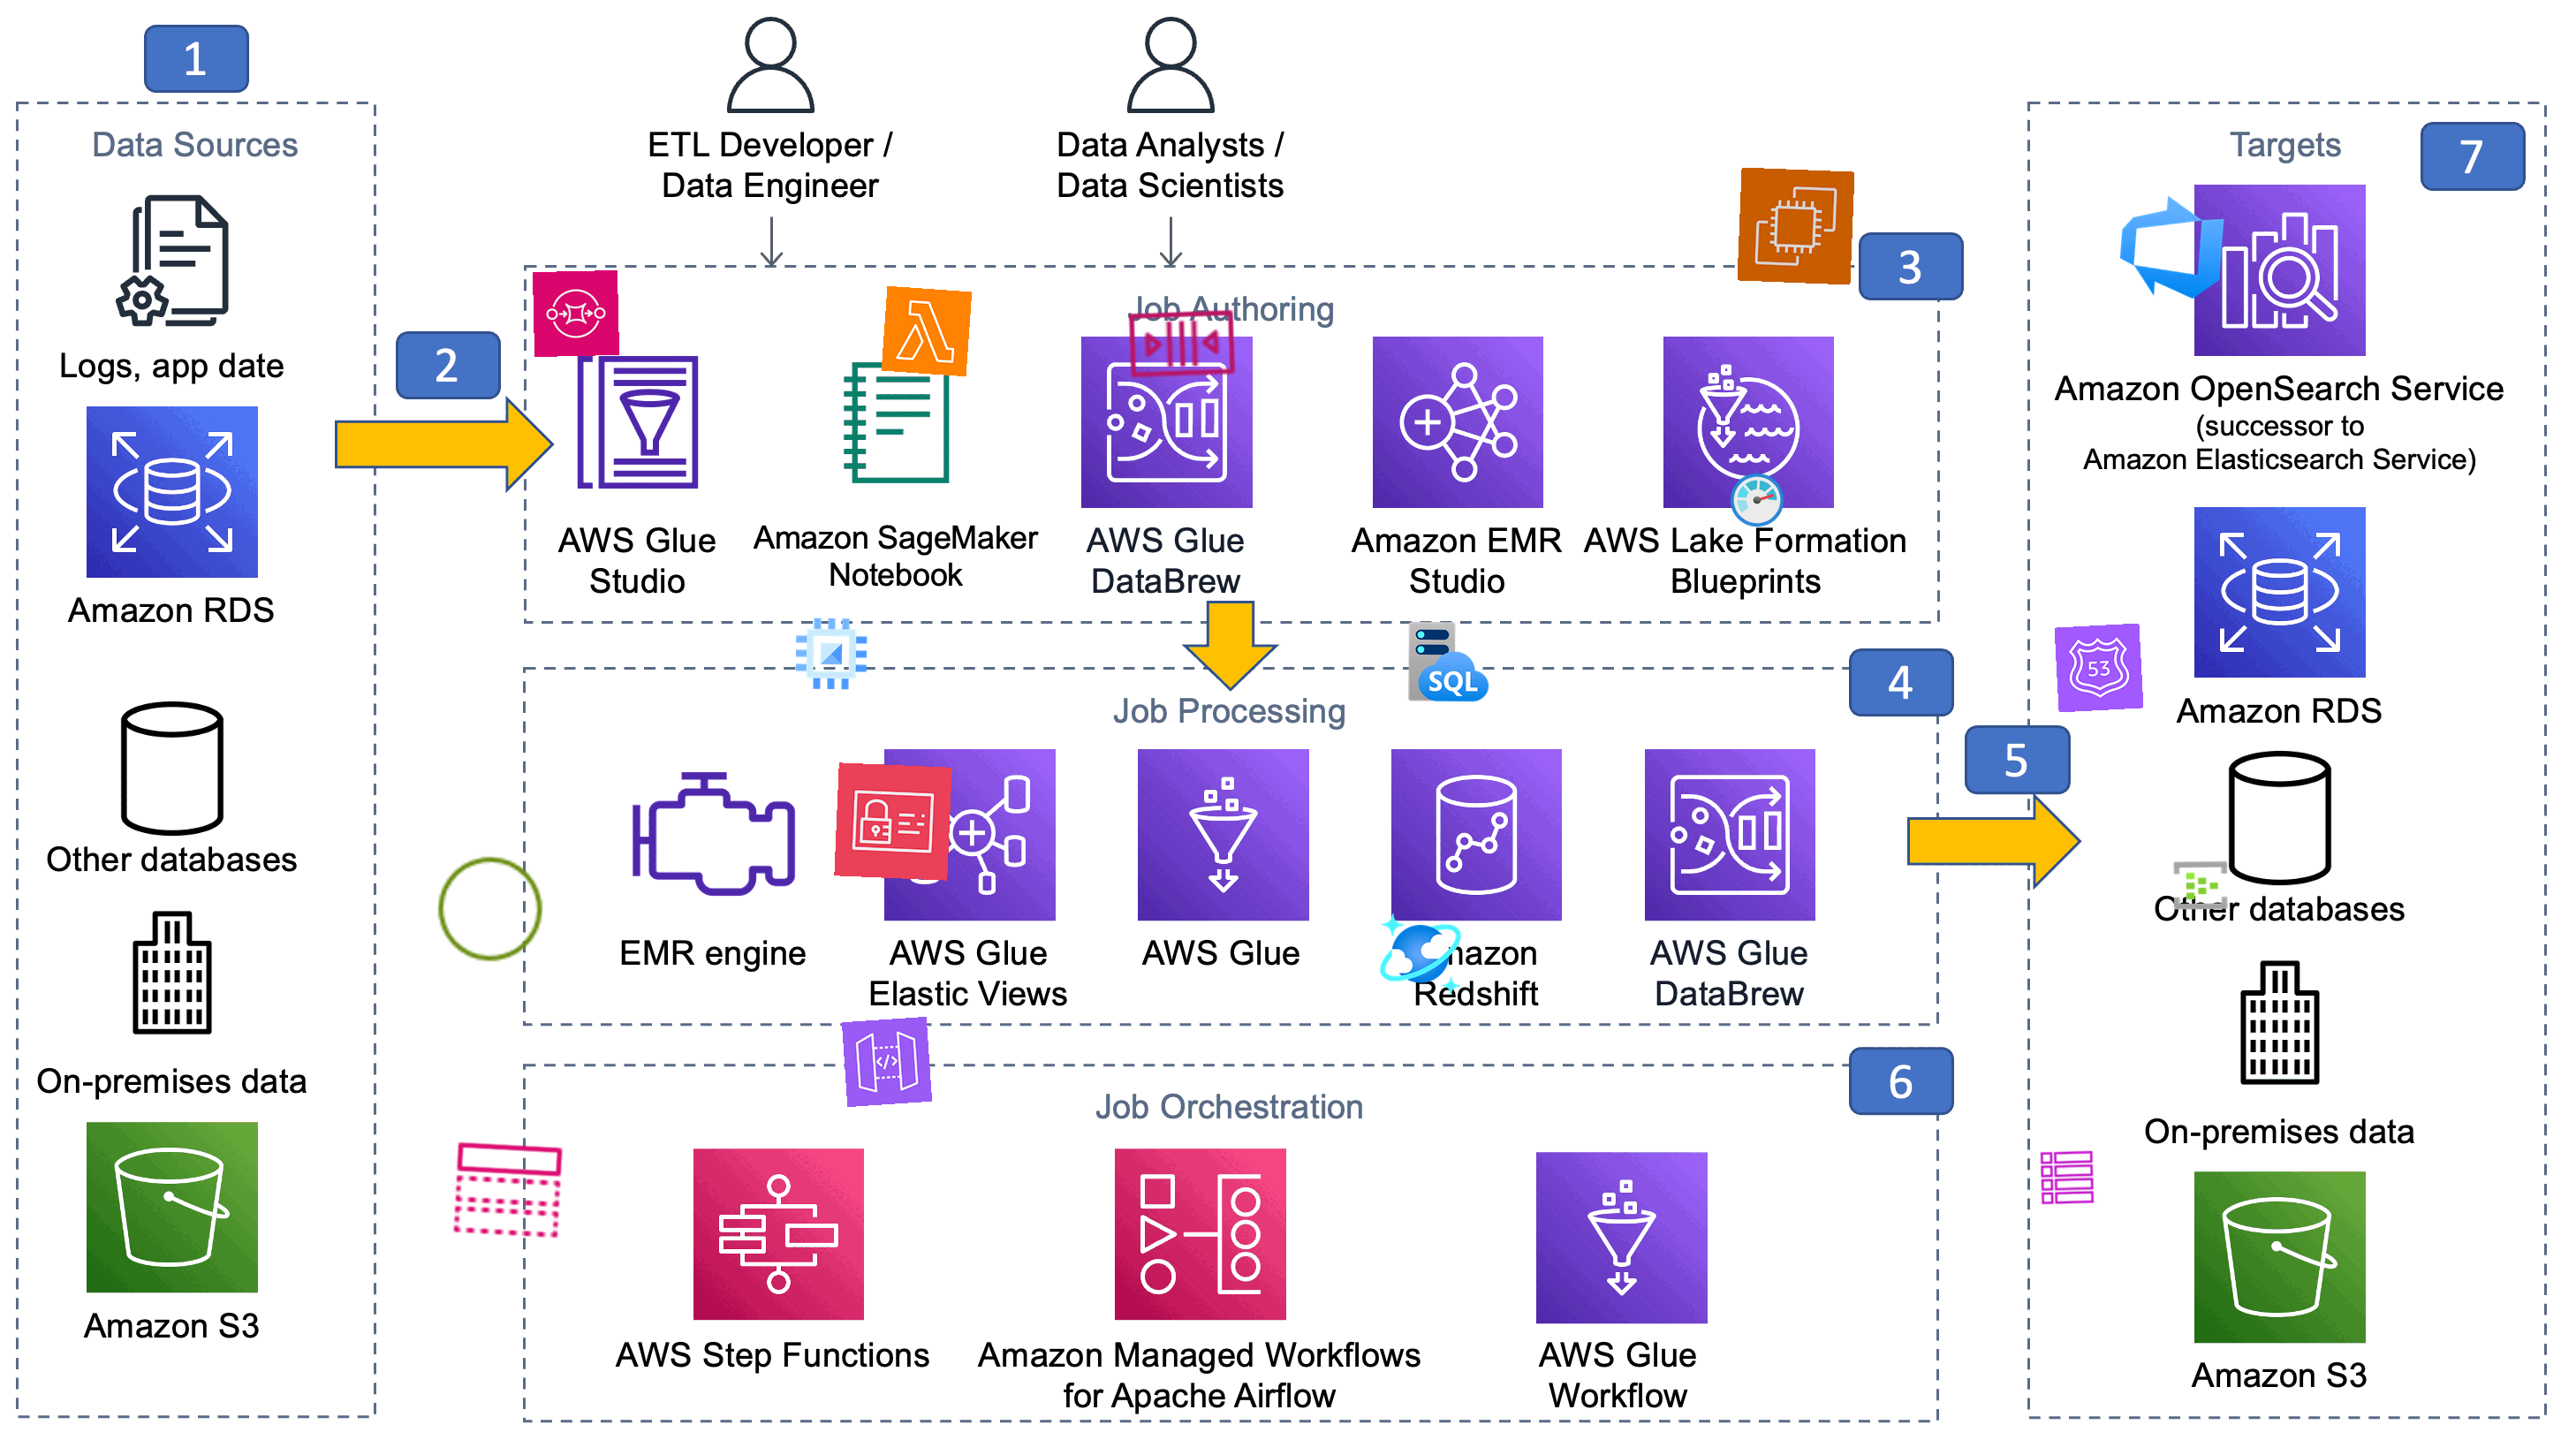aws_amazon_api_gateway: (840, 1015, 932, 1107)
aws_amazon_ec2: (1737, 166, 1856, 285)
aws_amazon_route_53: (2054, 623, 2144, 713)
aws_amazon_simple_queue_service: (533, 269, 621, 357)
aws_dynamodb_table: (2038, 1148, 2097, 1206)
aws_identity_and_access_management: (833, 762, 952, 881)
aws_lambda: (881, 285, 973, 377)
aws_simple_notification_service_topic: (448, 1130, 568, 1251)
aws_simple_queue_service_queue: (1123, 283, 1242, 402)
aws_simple_storage_service_object: (432, 849, 550, 968)
azure_cosmos_db: (1376, 909, 1465, 998)
azure_devops: (2111, 186, 2233, 308)
azure_event_hubs: (2171, 856, 2229, 915)
azure_monitor: (1727, 469, 1789, 531)
azure_sql_managed_instance: (1405, 619, 1491, 706)
gcp_compute_engine: (787, 610, 874, 697)
